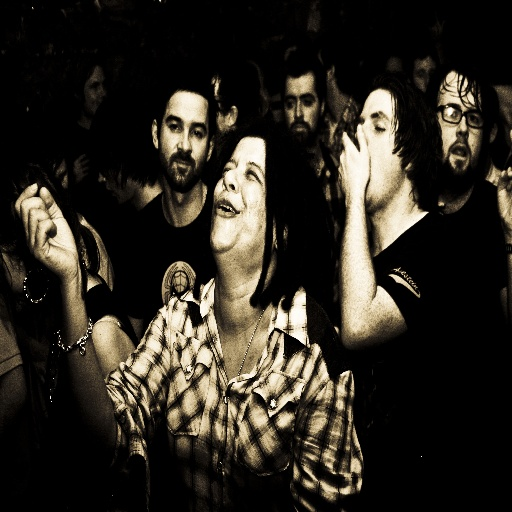hand: (15, 179, 90, 284), (336, 120, 370, 197), (496, 164, 511, 232), (66, 152, 90, 188)
